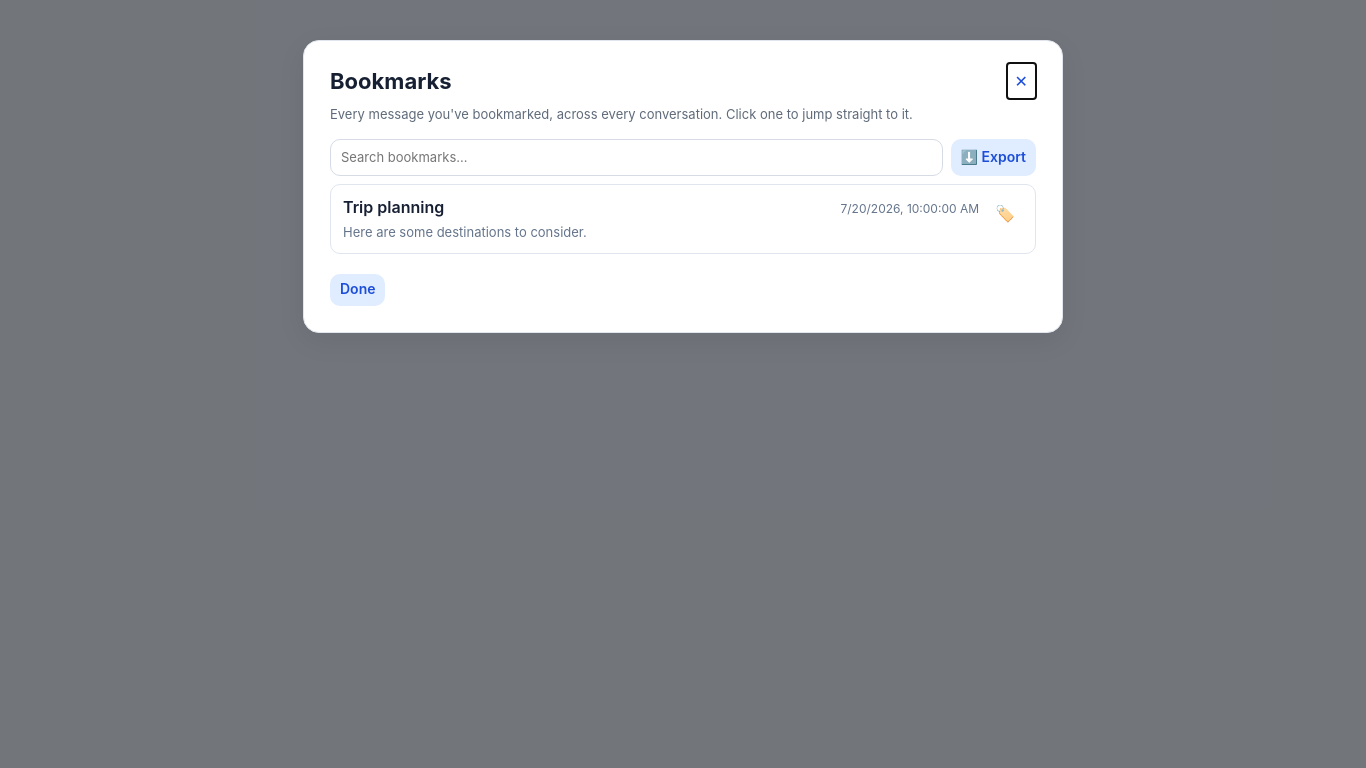
it: Bookmarks › shows an error and keeps the row when removing a bookmark fails
Check: the text "Trip planning" is shown, box [343, 195, 444, 219]
Click the button named "Remove bookmark from Trip planning" at coordinates (1005, 213), box [987, 195, 1023, 231]
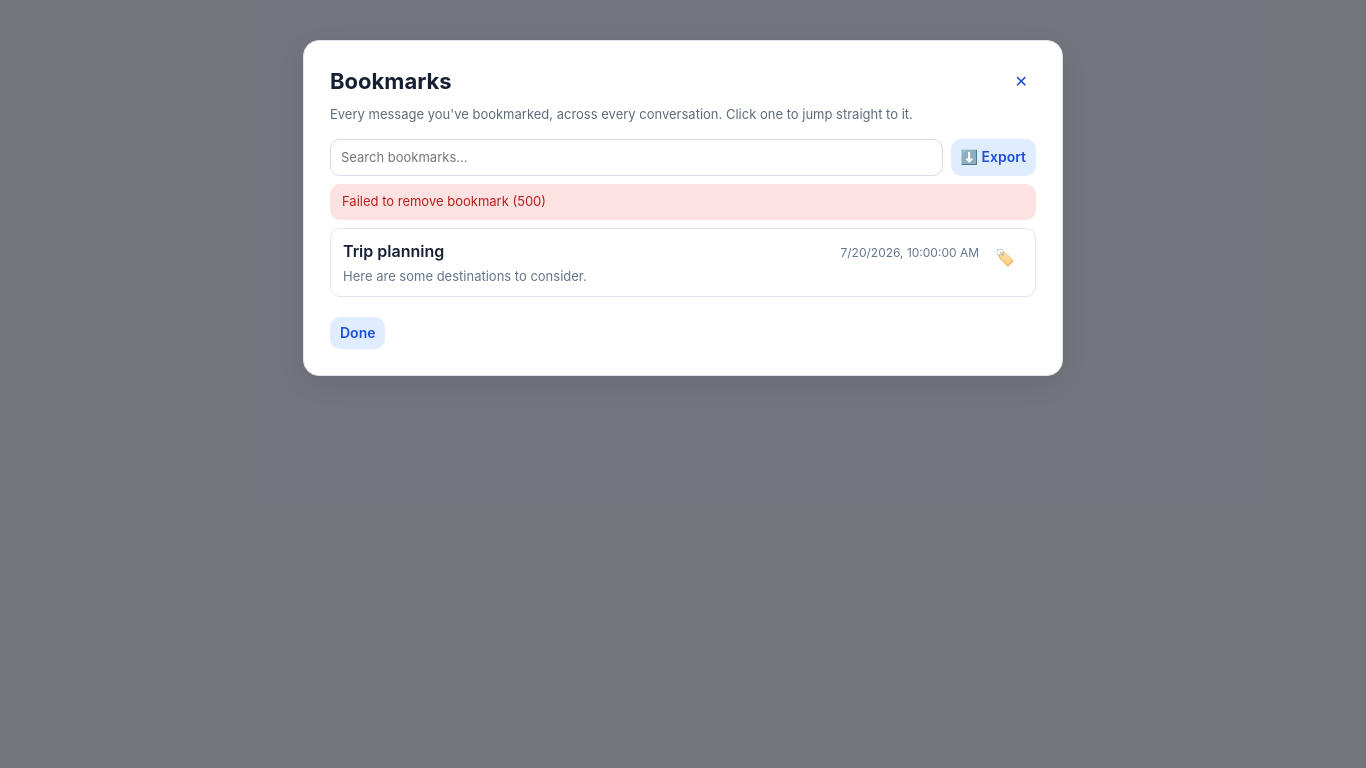
Check: the text "Trip planning" is shown, box [343, 238, 444, 262]
Check: the message shows "Failed to remove bookmark", box [342, 193, 546, 209]
